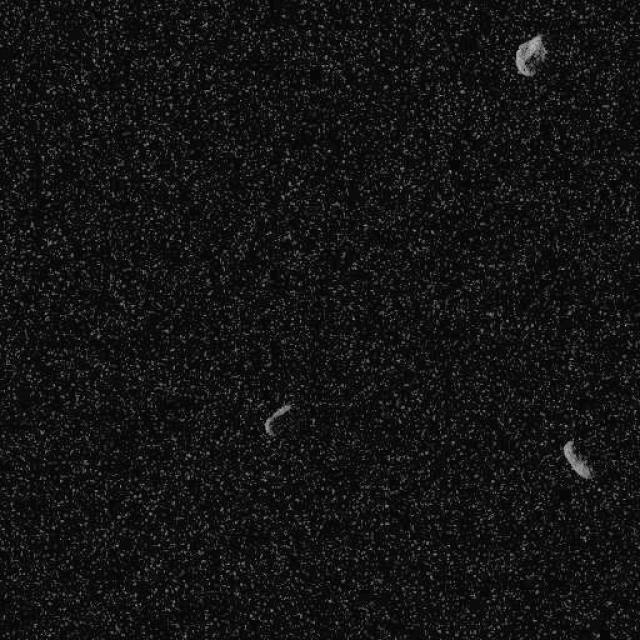D2: (514, 34, 548, 78), (562, 438, 592, 480), (262, 402, 292, 438)
